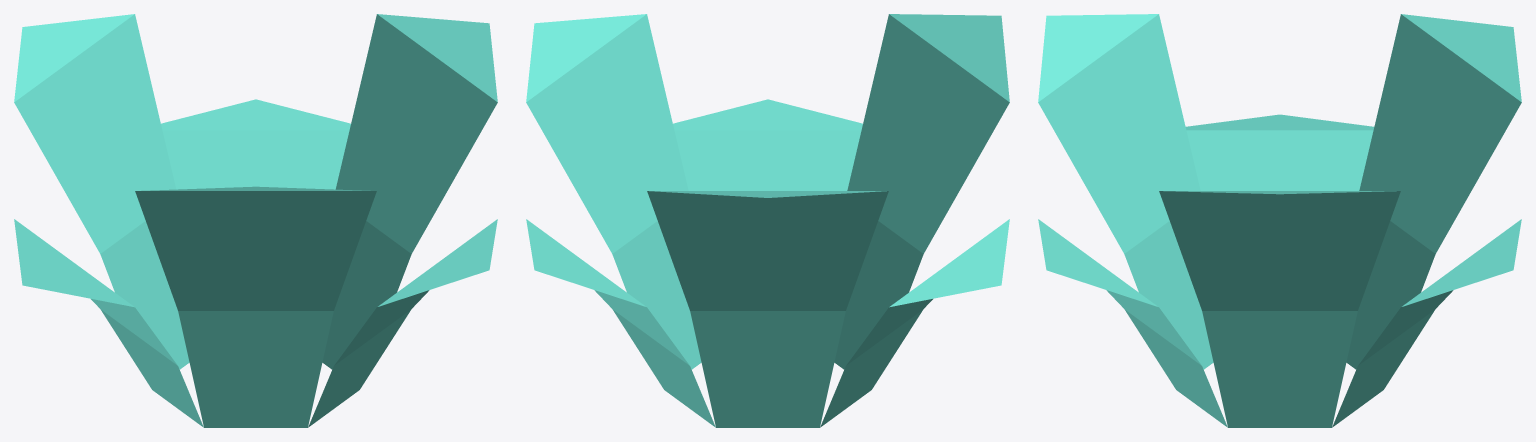
The model's file is plant_bushLarge.gltf.
The picture shows the model from 3 angles, left to right: view 1: azimuth 30°, elevation 25°; view 2: azimuth 150°, elevation 25°; view 3: azimuth 270°, elevation 25°; orthographic projection.
Visible parts, largest first — view 1: plant_bushLarge; view 2: plant_bushLarge; view 3: plant_bushLarge.
Part boxes in pixels (left/top/right/bottom): plant_bushLarge: left=14, top=14, right=497, bottom=427; plant_bushLarge: left=526, top=14, right=1009, bottom=427; plant_bushLarge: left=1038, top=14, right=1521, bottom=427.
Bounding box in the file's own units: 0.3743 × 0.2429 × 0.3357.
